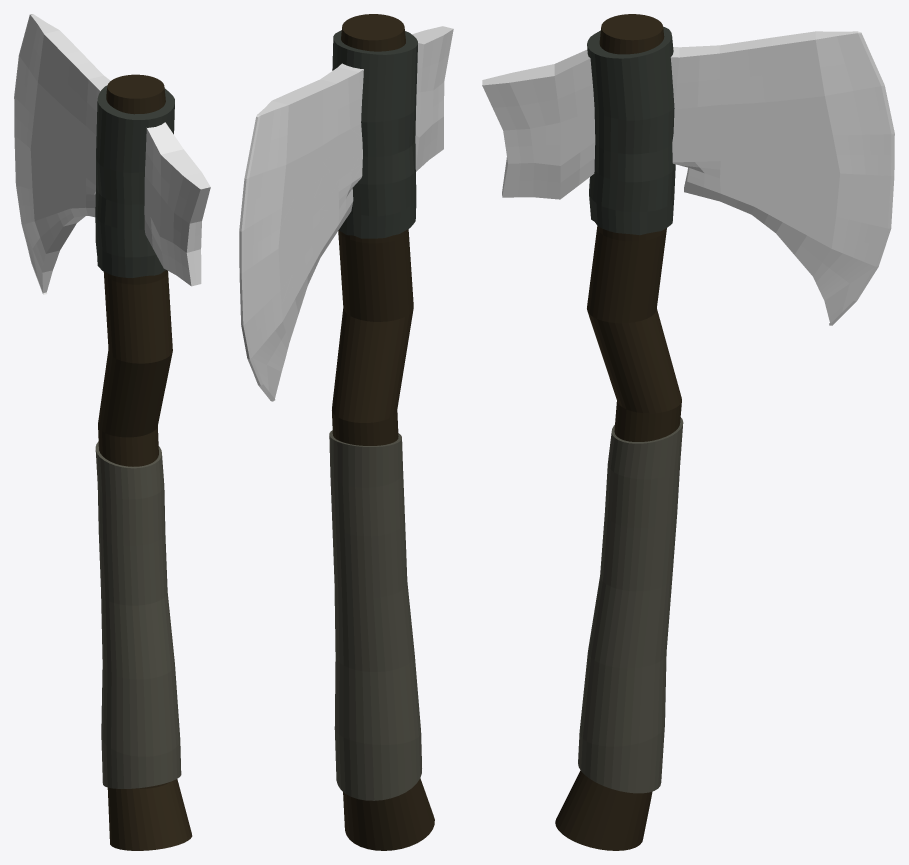
Rendered from Axt_Final(1).fbx.
3 views of the same model, side by side, from view 1: azimuth 30°, elevation 25°; view 2: azimuth 150°, elevation 25°; view 3: azimuth 270°, elevation 25° (orthographic). The views are drawn at different scales.
Parts seen in each view (by area): view 1: Plane.001, Cylinder.001, Cylinder, Cylinder.002; view 2: Plane.001, Cylinder.001, Cylinder, Cylinder.002; view 3: Plane.001, Cylinder.001, Cylinder, Cylinder.002.
Boxes of the visible parts, left/top/right/bottom form: Plane.001: left=14, top=14, right=210, bottom=294; Cylinder.001: left=95, top=441, right=181, bottom=788; Cylinder: left=98, top=74, right=192, bottom=850; Cylinder.002: left=95, top=85, right=174, bottom=277; Plane.001: left=239, top=26, right=453, bottom=401; Cylinder.001: left=329, top=430, right=421, bottom=800; Cylinder: left=332, top=14, right=434, bottom=850; Cylinder.002: left=332, top=30, right=417, bottom=238; Plane.001: left=482, top=31, right=894, bottom=325; Cylinder.001: left=578, top=417, right=683, bottom=793; Cylinder: left=555, top=14, right=681, bottom=850; Cylinder.002: left=587, top=26, right=675, bottom=235.
Size of the model in its own units: 7.79 by 77.65 by 35.8.
